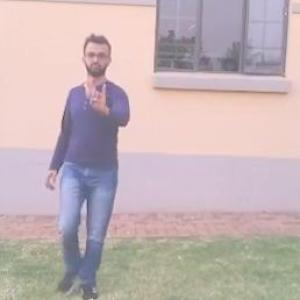takeoff-hand: (84, 76, 112, 118)
